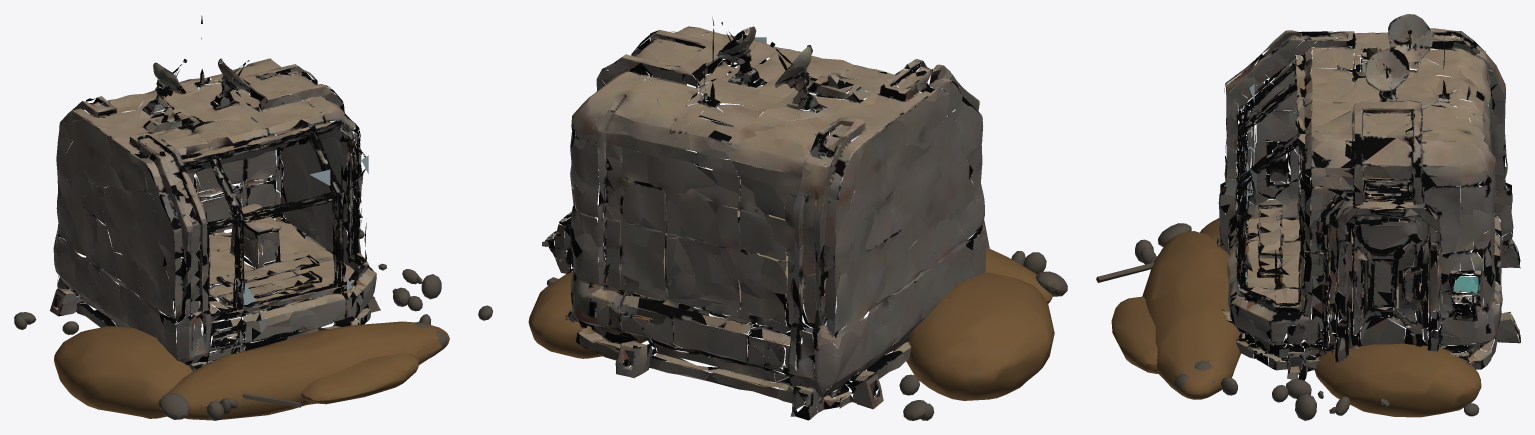
Rendered from sink.sales_point.aged.glb.
The picture shows the model from 3 angles, left to right: view 1: azimuth 30°, elevation 25°; view 2: azimuth 150°, elevation 25°; view 3: azimuth 270°, elevation 25°; orthographic projection. The views are drawn at different scales.
Visible parts, largest first — view 1: body; view 2: body; view 3: body.
Part boxes in pixels (bbox=[...]): body: bbox=[14, 15, 449, 420]; body: bbox=[478, 18, 1067, 420]; body: bbox=[1096, 14, 1520, 420].
Size of the model in its own units: 2.4 by 1.88 by 2.12.
Materials: 1 (1 with a texture image).
